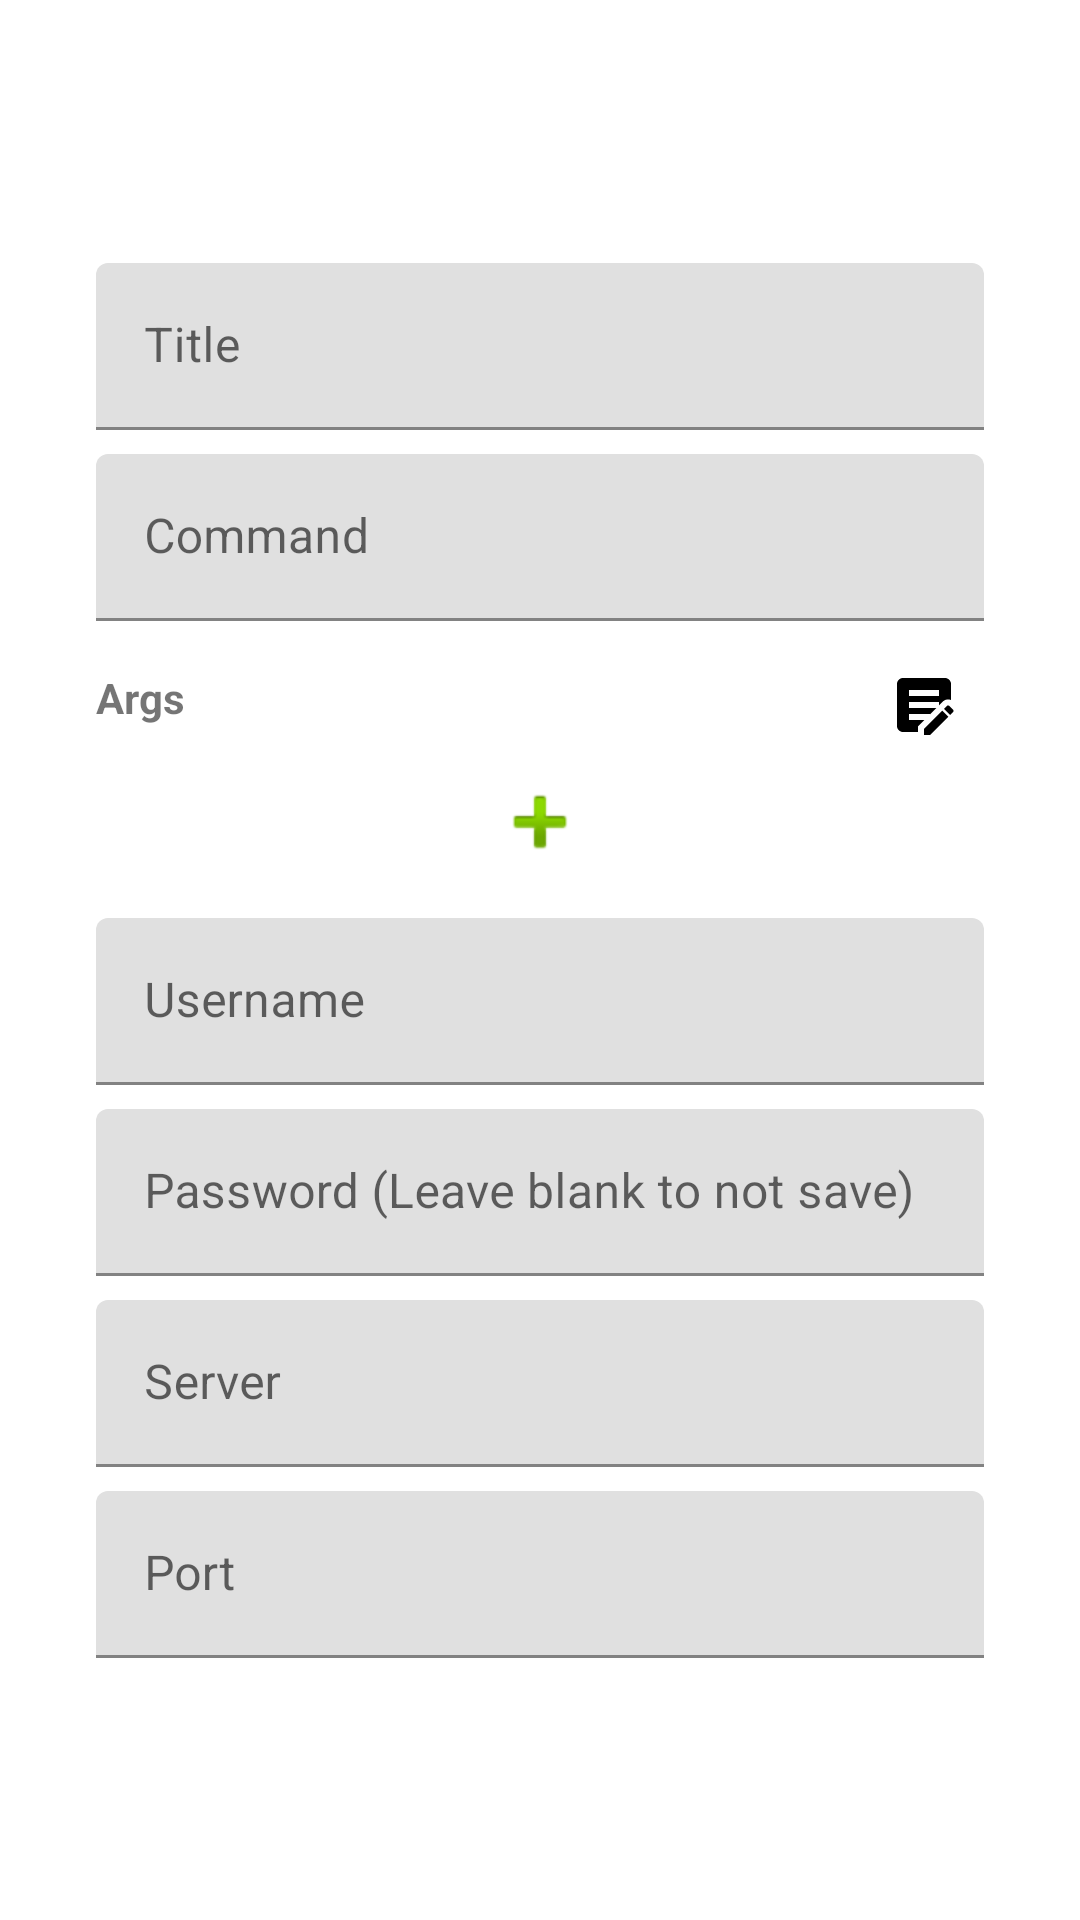

Icons on this 1080x1920 Android screen, each with its box as (x1, y1, x2, y2):
add: (513, 795, 567, 849)
text box edit: (897, 678, 954, 735)
